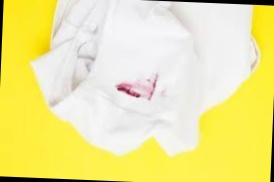lipstick: (111, 72, 161, 101)
